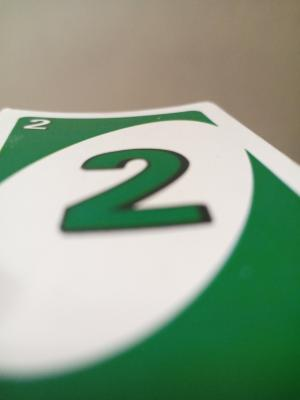green: (24, 117, 265, 373)
